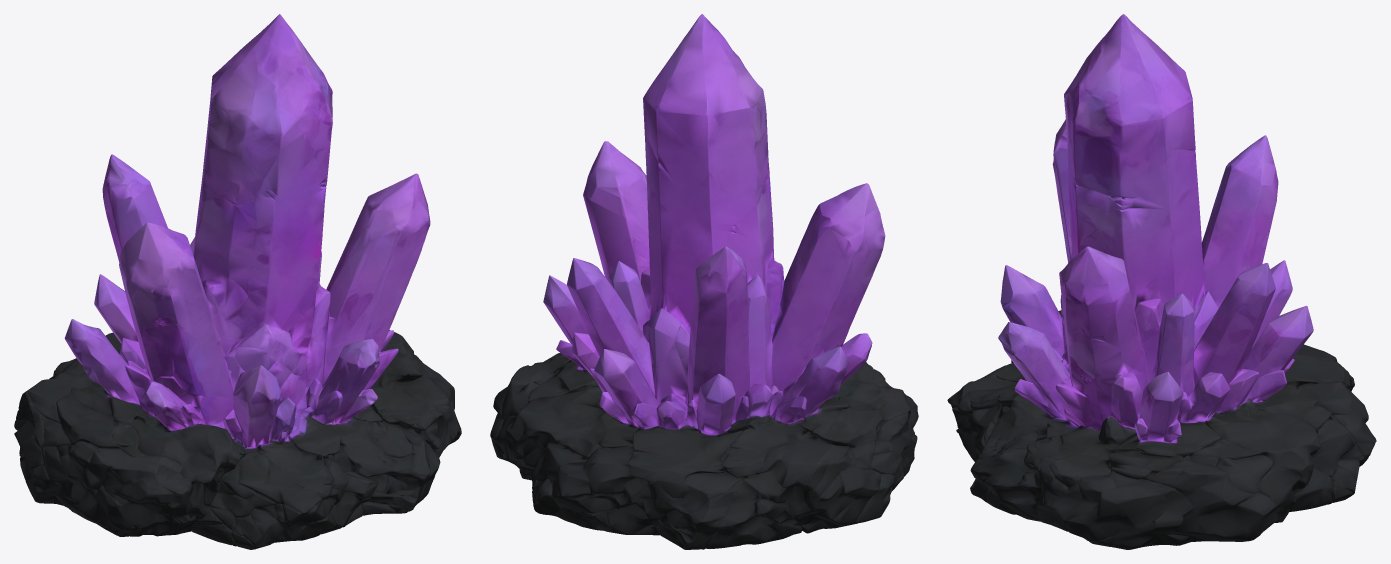
The model's file is portal_01.glb.
3 renders of one model, left to right at view 1: azimuth 30°, elevation 25°; view 2: azimuth 150°, elevation 25°; view 3: azimuth 270°, elevation 25°, orthographic. The views are drawn at different scales.
Bounding box in the file's own units: 0.8851 × 0.9789 × 0.8315.
1 material, 1 textured.
